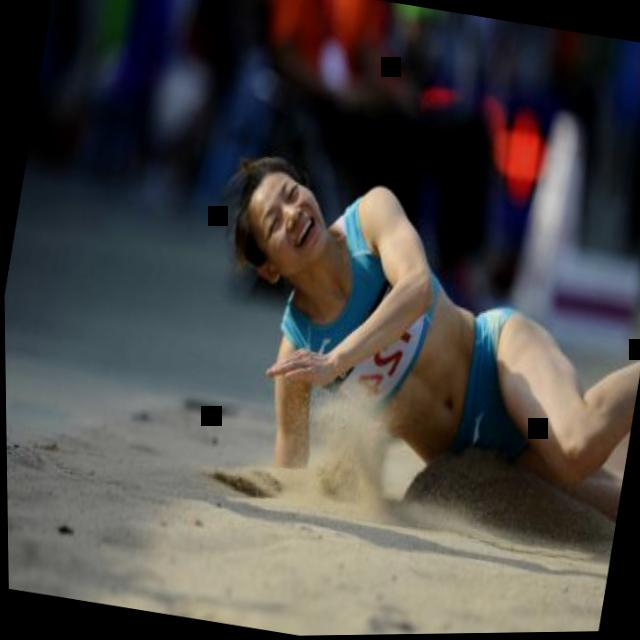Fall-Detected: (184, 134, 640, 560)
